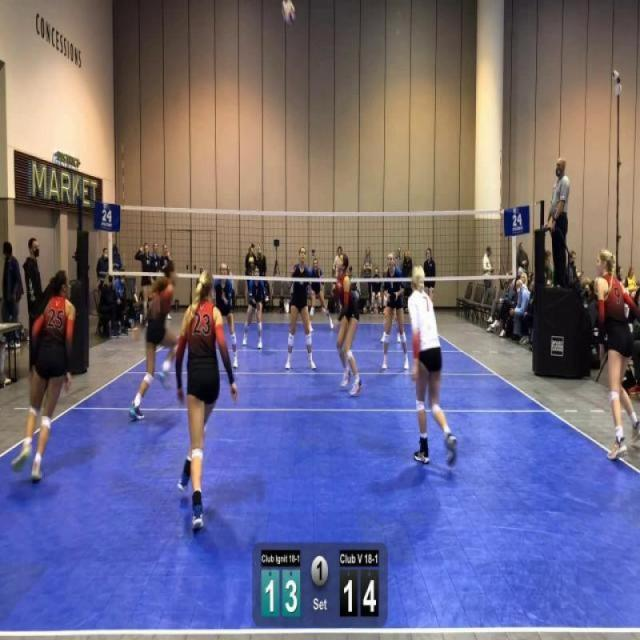volleyball: (280, 0, 296, 27)
